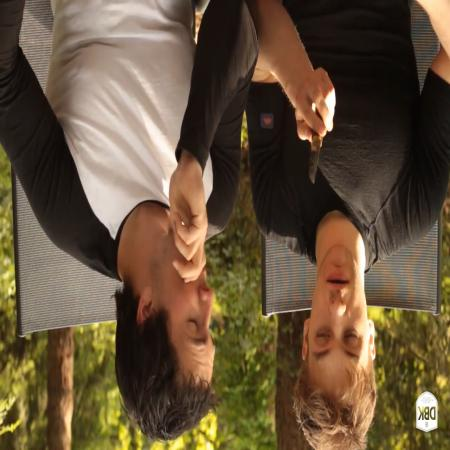long weapon: (292, 82, 342, 202)
